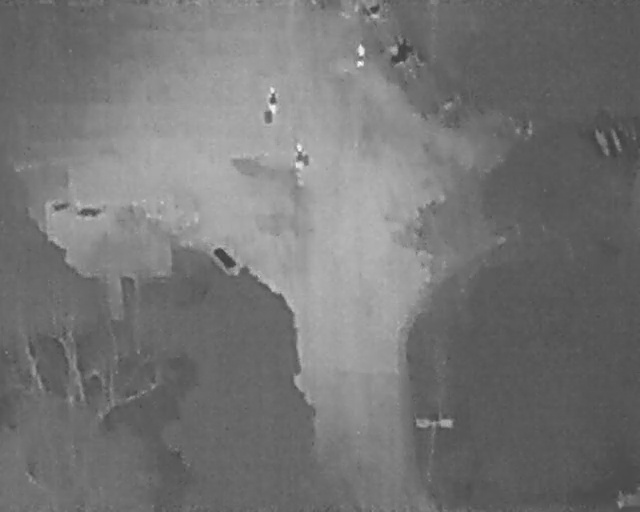Bicycle: (379, 33, 418, 72), (358, 3, 380, 19)
Person: (292, 141, 309, 173), (265, 86, 279, 116), (356, 44, 366, 69)
